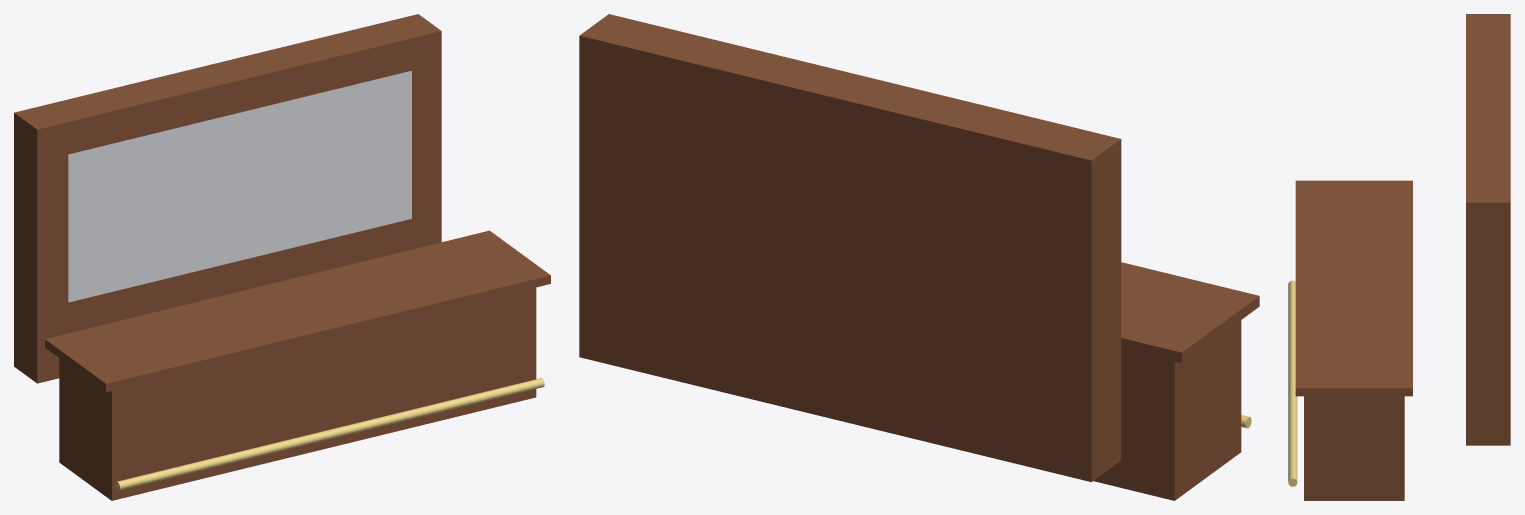
File: saloon_bar_counter.glb
3 views of the same model, side by side, from view 1: azimuth 30°, elevation 25°; view 2: azimuth 150°, elevation 25°; view 3: azimuth 270°, elevation 25° (orthographic). The views are drawn at different scales.
Parts seen in each view (by area): view 1: Plane; view 2: Plane; view 3: Plane.
Part boxes in pixels (left/top/right/bottom): Plane: left=14, top=14, right=550, bottom=500; Plane: left=579, top=14, right=1259, bottom=500; Plane: left=1288, top=14, right=1510, bottom=500.
Size of the model in its own units: 4.4 by 2.9 by 1.99.
